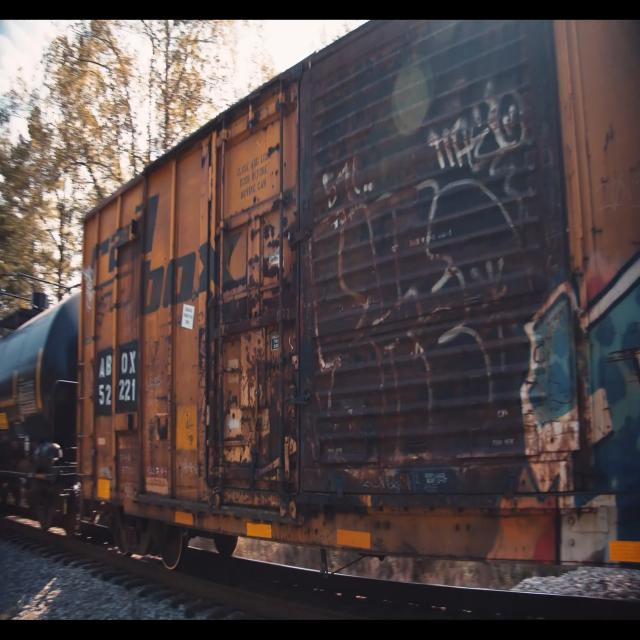boxcar: (74, 23, 640, 617)
tank: (0, 273, 86, 542)
